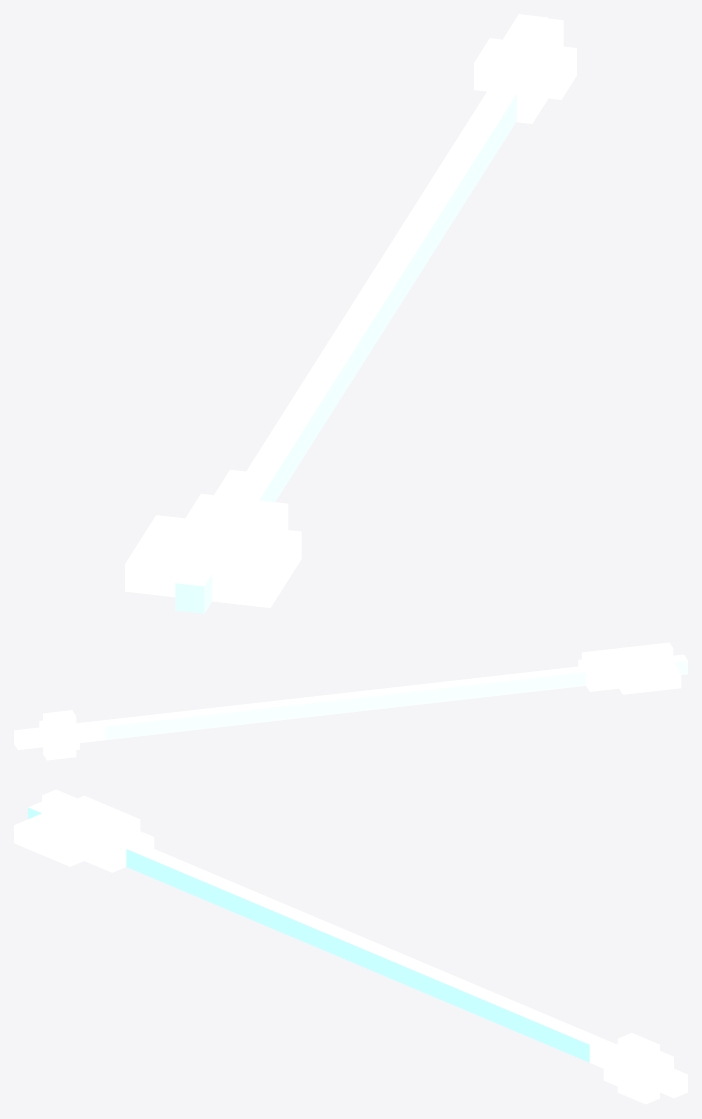
The model's file is item_SPIRIT_ARROW.glb.
The picture shows the model from 3 angles, top to bottom: view 1: azimuth 30°, elevation 25°; view 2: azimuth 150°, elevation 25°; view 3: azimuth 270°, elevation 25°; orthographic projection. The views are drawn at different scales.
Visible parts, largest first — view 1: item_SPIRIT_ARROW; view 2: item_SPIRIT_ARROW; view 3: item_SPIRIT_ARROW.
Part boxes in pixels (x1=…): item_SPIRIT_ARROW: x1=125, y1=14, x2=576, y2=613; item_SPIRIT_ARROW: x1=14, y1=642, x2=687, y2=760; item_SPIRIT_ARROW: x1=14, y1=789, x2=687, y2=1104.
Bounding box in the file's own units: 0.3857 × 0.0341 × 0.3857.
Materials: 1 (1 with a texture image).
